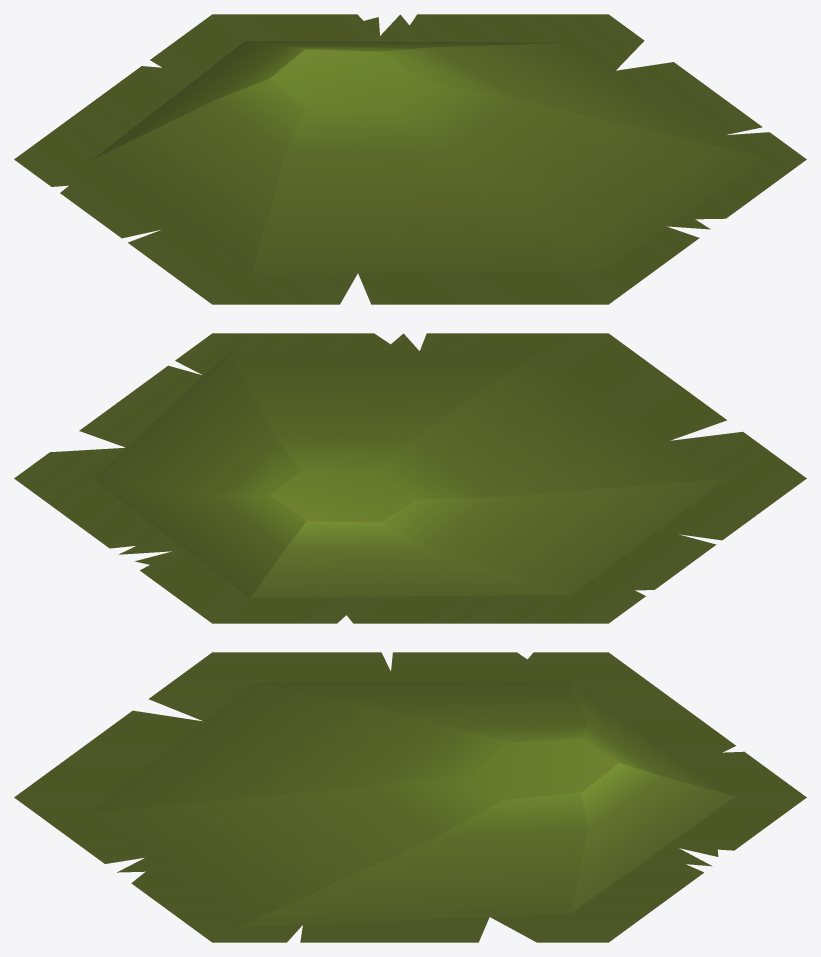
Rendered from wood-grass-forest-plane.glb.
The picture shows the model from 3 angles, top to bottom: view 1: azimuth 30°, elevation 25°; view 2: azimuth 150°, elevation 25°; view 3: azimuth 270°, elevation 25°; orthographic projection.
Parts seen in each view (by area): view 1: plane; view 2: plane; view 3: plane.
Part boxes in pixels (left/top/right/bottom): plane: left=14, top=14, right=806, bottom=304; plane: left=14, top=333, right=806, bottom=623; plane: left=14, top=652, right=806, bottom=942.
Bounding box in the file's own units: 1.73 × 0.0945 × 2.
1 material, 1 textured.
